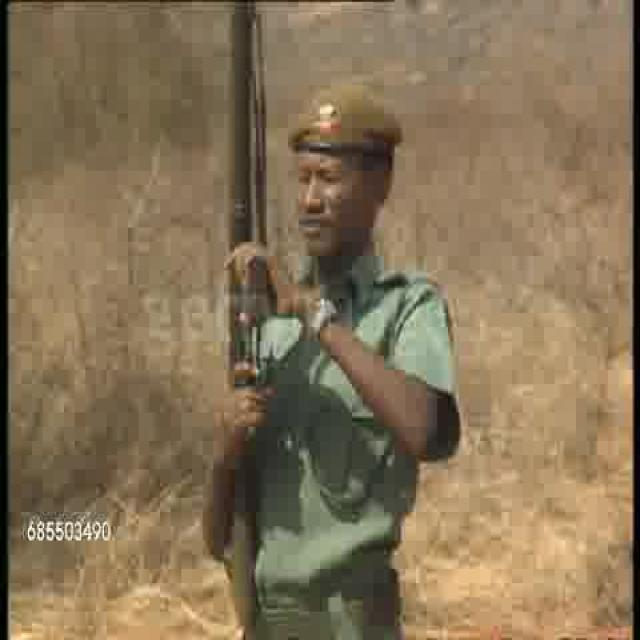poacher: (281, 83, 416, 600)
weapon: (222, 2, 260, 630)
